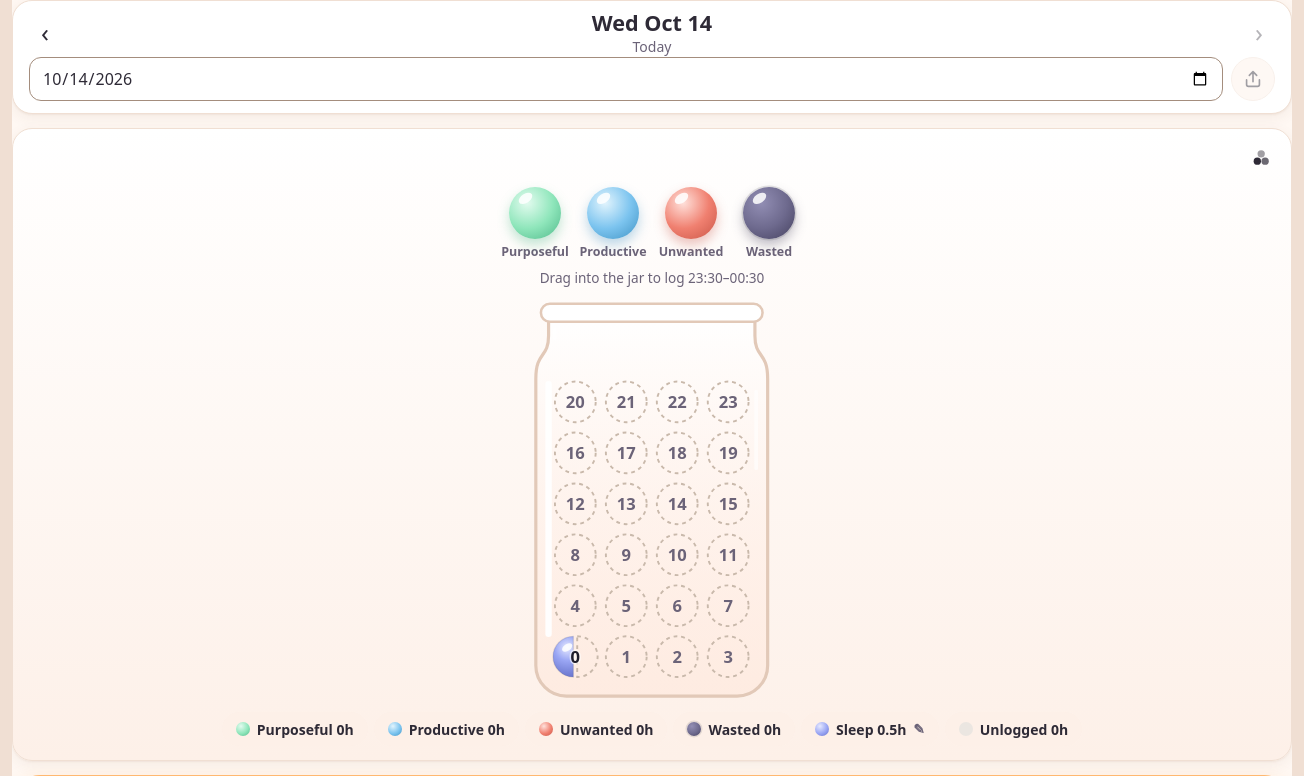
DayView drag-to-drop tray › writes both days in one batch for a window that crosses midnight
Press the mouse on the button named "Log 23:30–00:30 as Productive" at (613, 213), box [587,187,639,239]
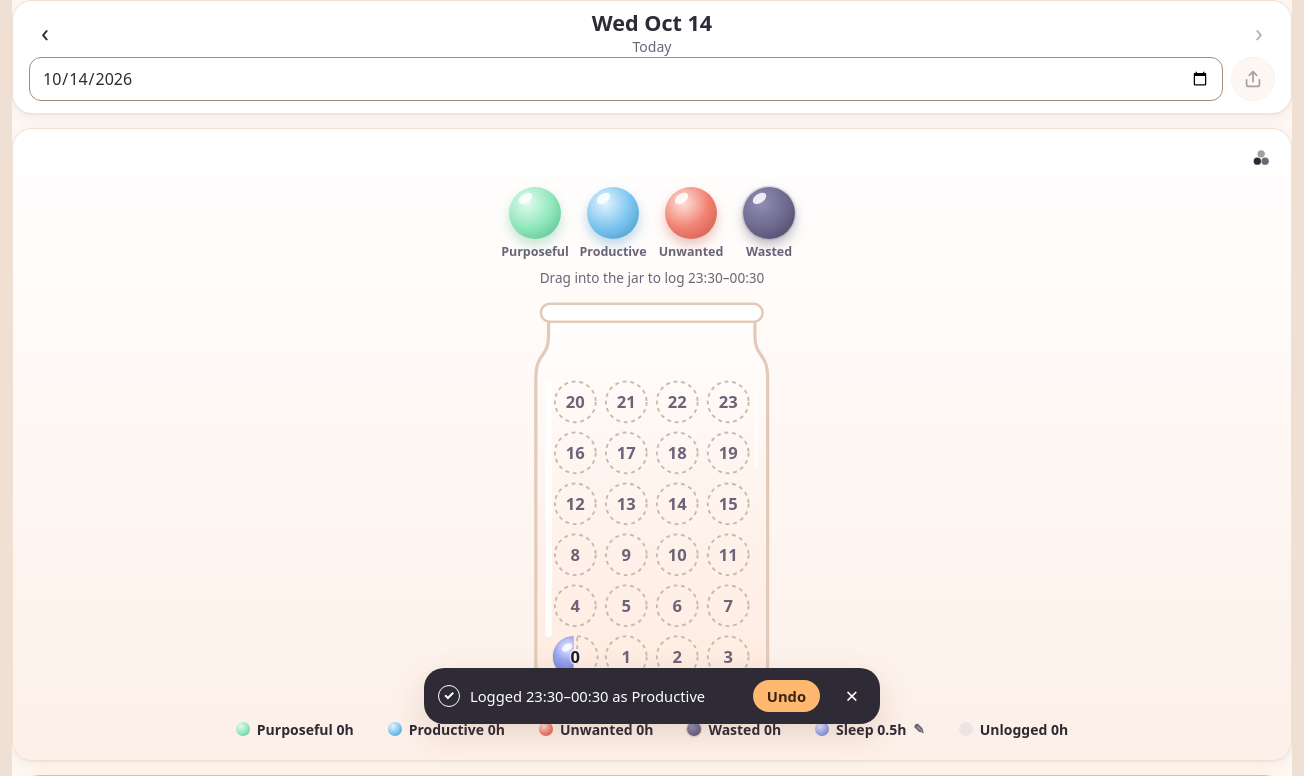
Now the text "Logged 23:30–00:30 as Productive" is shown, box [470,685,743,707]
